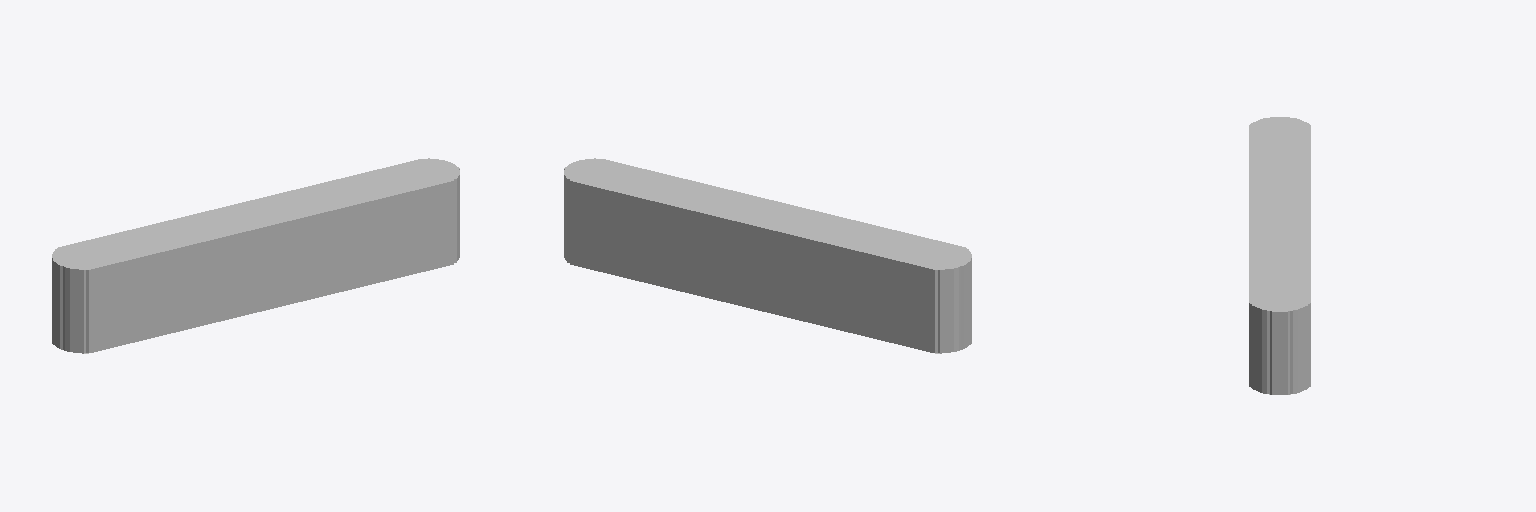
File: xtion.obj
The picture shows the model from 3 angles: view 1: azimuth 30°, elevation 25°; view 2: azimuth 150°, elevation 25°; view 3: azimuth 270°, elevation 25°; orthographic projection.
Bounding box in the file's own units: 0.18 × 0.036 × 0.024.